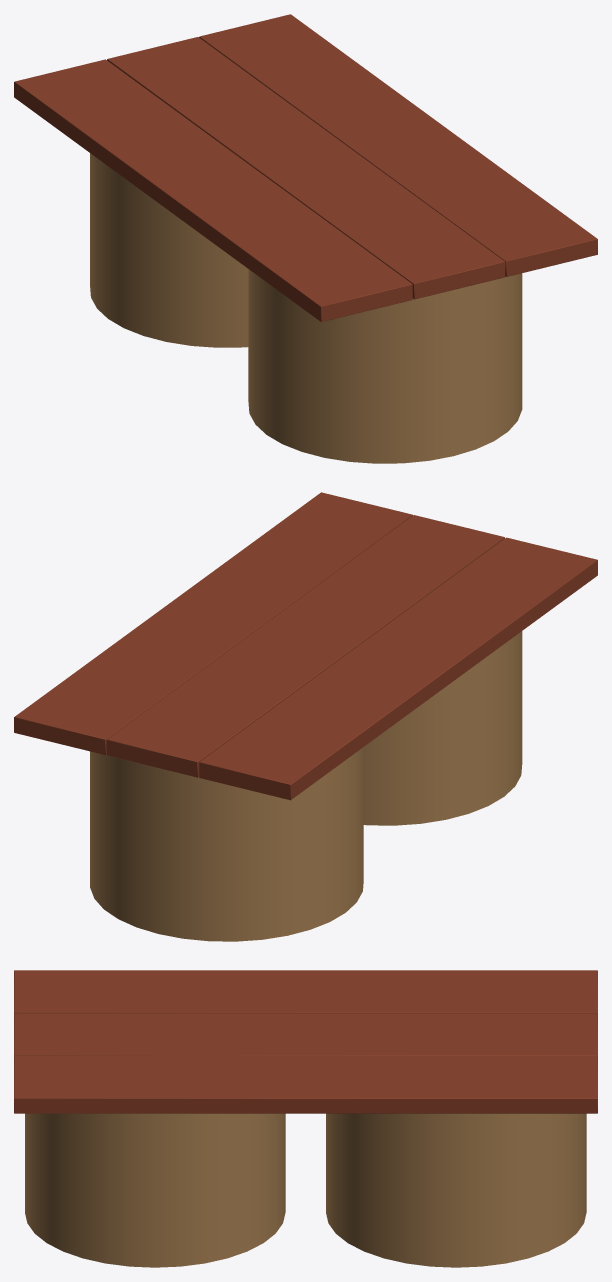
File: DoubleDisplay.fbx
3 renders of one model, top to bottom at view 1: azimuth 30°, elevation 25°; view 2: azimuth 150°, elevation 25°; view 3: azimuth 270°, elevation 25°, orthographic. The views are drawn at different scales.
Visible parts, largest first — view 1: DoubleDisplay; view 2: DoubleDisplay; view 3: DoubleDisplay.
Boxes of the visible parts, x1,y1,x2,y2 form: DoubleDisplay: [14, 14, 597, 463]; DoubleDisplay: [14, 492, 597, 941]; DoubleDisplay: [14, 970, 597, 1267].
Bounding box in the file's own units: 233 × 151 × 448.
